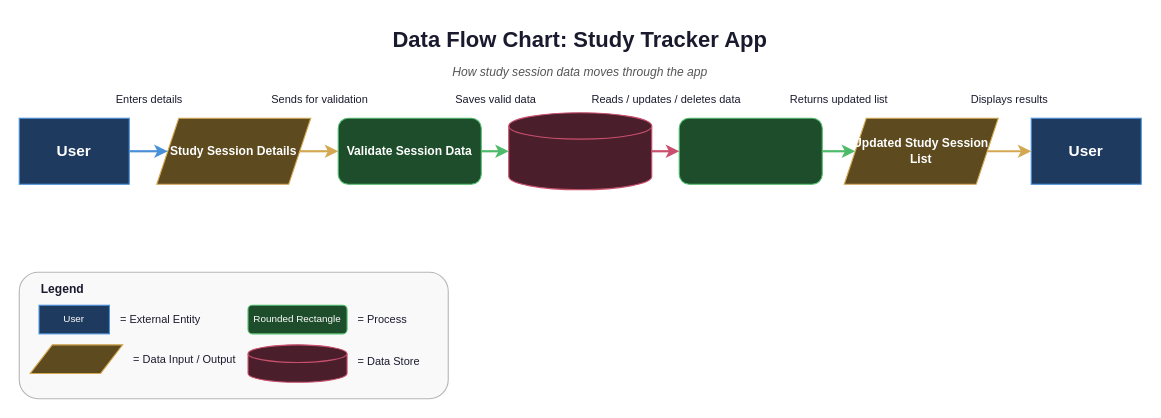
Some shapes in this 1161 by 418 pixel diagram are drawn without their labels. Each missing label, with the box of its shape:
Cylinder: (247, 344, 347, 382)
Parallelogram: (29, 344, 123, 373)
Retrieve / Update / Delete Session Data: (678, 117, 822, 184)
Study Sessions Database: (508, 112, 652, 190)
